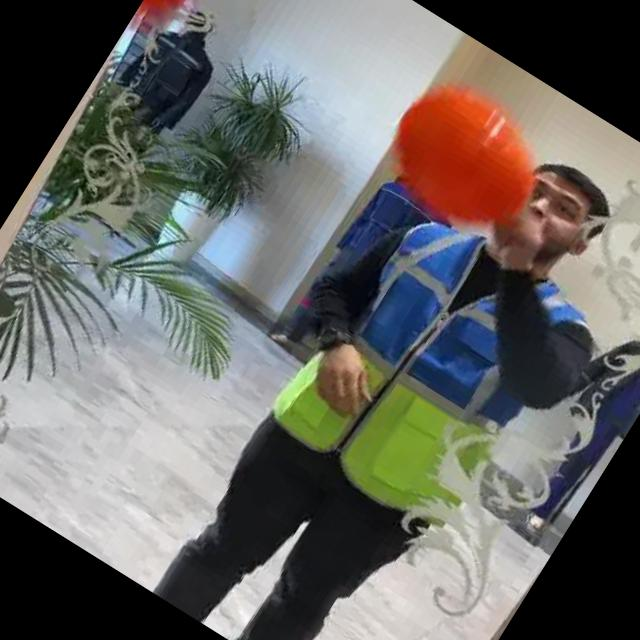hard_hat: (369, 64, 565, 250)
safety_vest: (254, 187, 600, 550)
